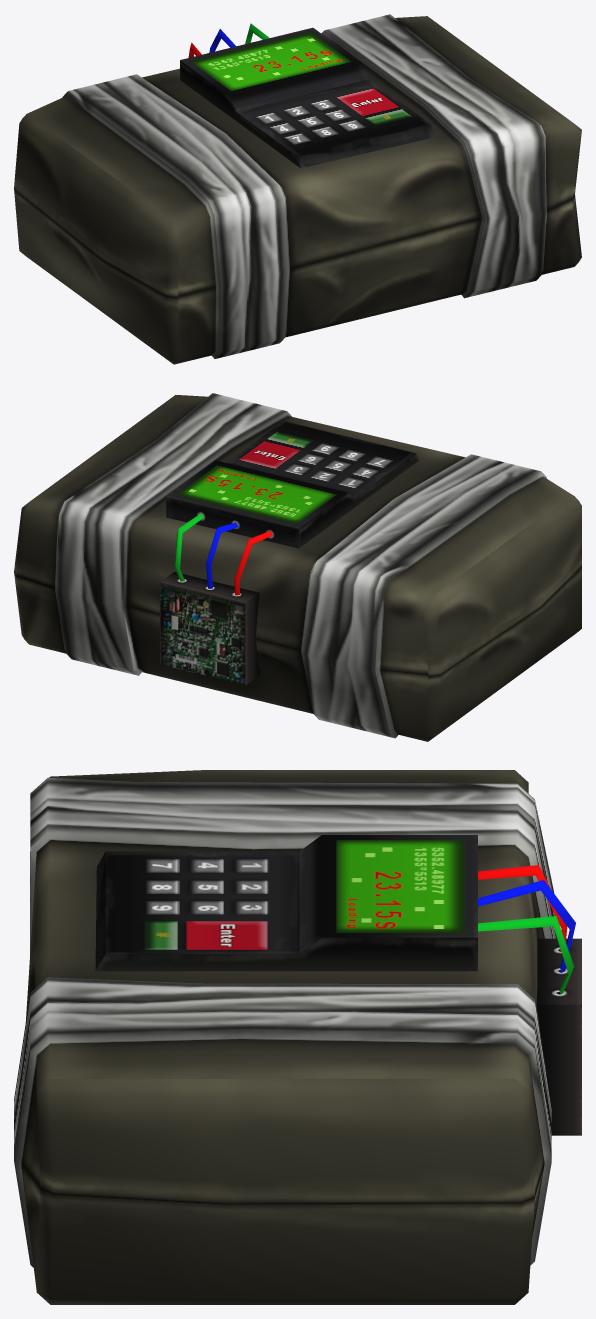
The model's file is bom.FBX.
3 renders of one model, top to bottom at view 1: azimuth 30°, elevation 25°; view 2: azimuth 150°, elevation 25°; view 3: azimuth 270°, elevation 25°, orthographic. The views are drawn at different scales.
Visible parts, largest first — view 1: Box001; view 2: Box001; view 3: Box001.
Part boxes in pixels (bbox=[...]): Box001: bbox=[14, 14, 581, 364]; Box001: bbox=[14, 393, 581, 741]; Box001: bbox=[14, 770, 581, 1304].
Bounding box in the file's own units: 90.98 × 35.28 × 65.34.
